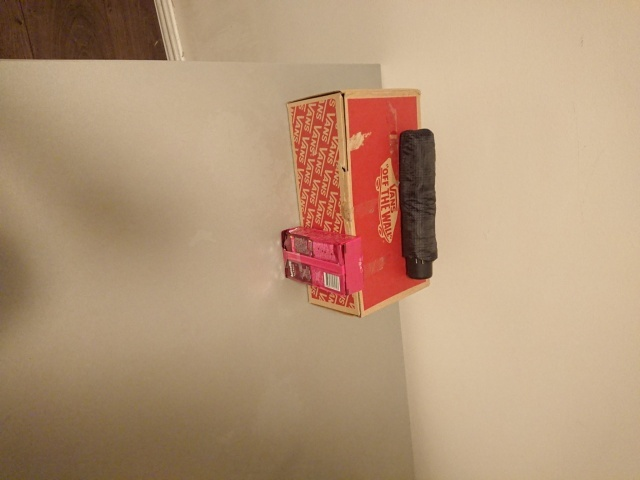Barcaffe Classic Original 225g: (280, 224, 366, 299)
